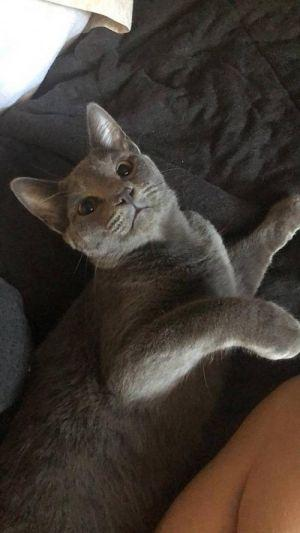rblue: (6, 93, 201, 278)
